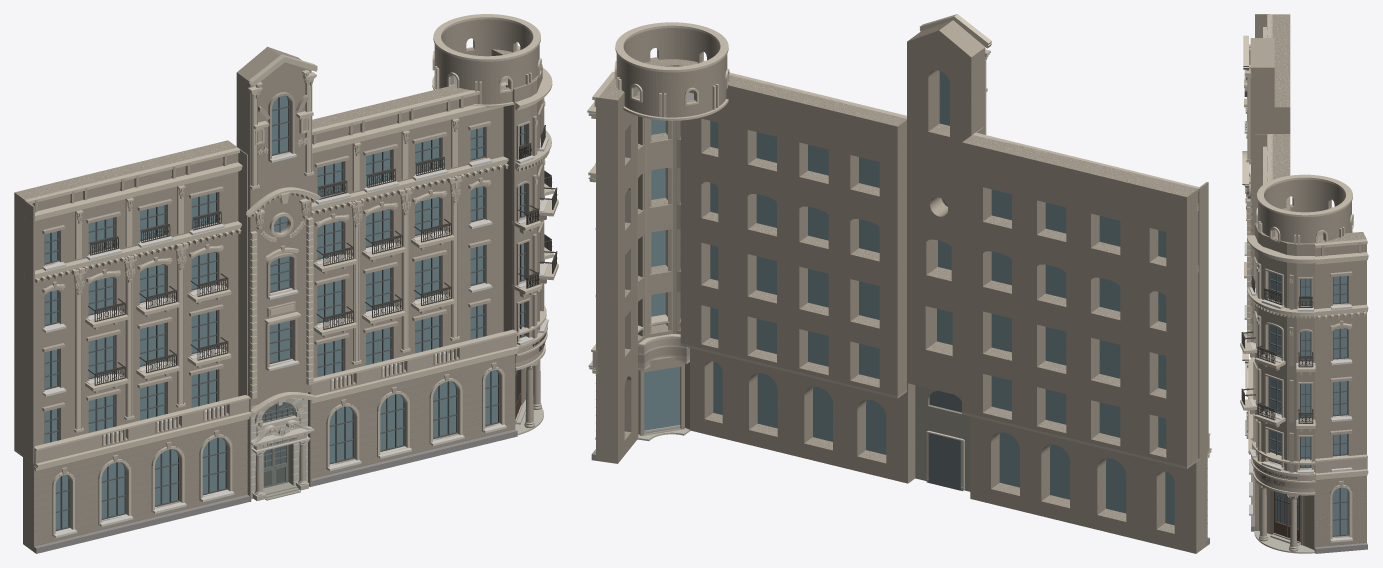
Rendered from huangpu-somekh-building-street-corner-web.glb.
3 renders of one model, left to right at view 1: azimuth 30°, elevation 25°; view 2: azimuth 150°, elevation 25°; view 3: azimuth 270°, elevation 25°, orthographic. The views are drawn at different scales.
Parts seen in each view (by area): view 1: 沙美大楼北京东路主立面与四川中路转角; view 2: 沙美大楼北京东路主立面与四川中路转角; view 3: 沙美大楼北京东路主立面与四川中路转角.
Boxes of the visible parts, x1,y1,x2,y2 form: 沙美大楼北京东路主立面与四川中路转角: [14, 14, 558, 553]; 沙美大楼北京东路主立面与四川中路转角: [587, 14, 1211, 553]; 沙美大楼北京东路主立面与四川中路转角: [1240, 14, 1368, 553].
Size of the model in its own units: 38.7 by 30.01 by 8.86.
23 materials, 1 textured.
